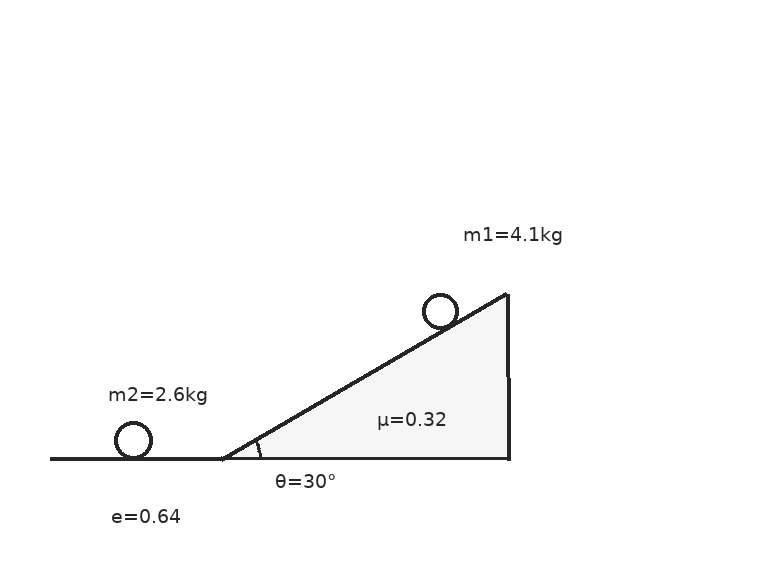ball: (112, 419, 154, 461), (420, 291, 460, 331)
ramp: (218, 292, 509, 461)
